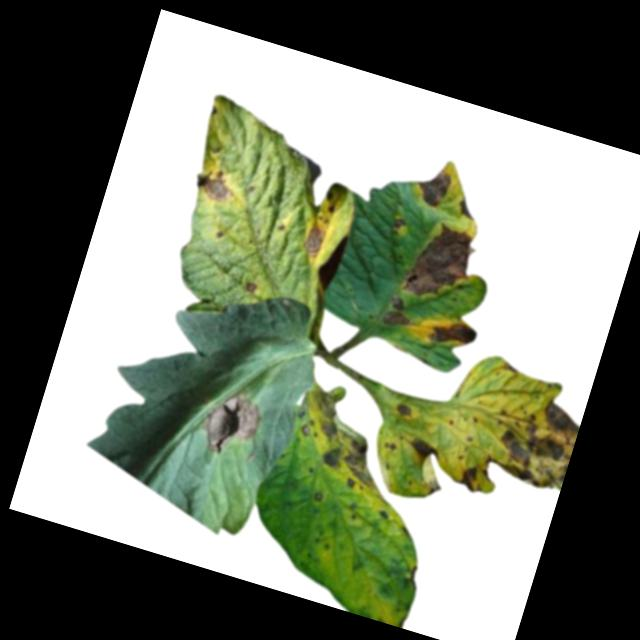Early_blight: (284, 381, 398, 496), (481, 388, 583, 498), (400, 216, 480, 308), (198, 388, 268, 465), (426, 314, 480, 357), (190, 166, 243, 209), (412, 164, 457, 212), (401, 432, 445, 466), (298, 219, 331, 261), (381, 293, 416, 332), (456, 464, 483, 497), (454, 195, 481, 223), (318, 189, 341, 218), (393, 401, 417, 421), (423, 478, 444, 500), (494, 358, 518, 376), (389, 217, 408, 239), (373, 507, 391, 527), (242, 279, 259, 298), (310, 489, 326, 505)
